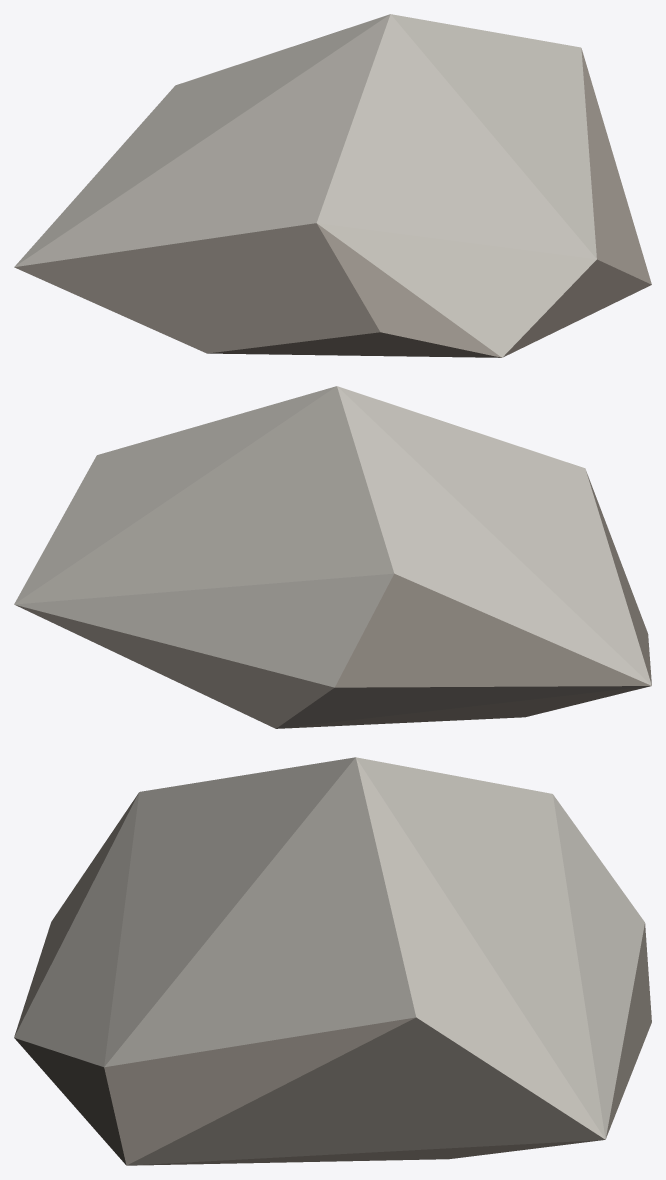
File: Rock_S_C.fbx
The picture shows the model from 3 angles, top to bottom: view 1: azimuth 30°, elevation 25°; view 2: azimuth 150°, elevation 25°; view 3: azimuth 270°, elevation 25°; orthographic projection. The views are drawn at different scales.
Parts seen in each view (by area): view 1: Rock_S_C; view 2: Rock_S_C; view 3: Rock_S_C.
Part boxes in pixels (x1,y1,x2,y2): Rock_S_C: [14, 14, 651, 357]; Rock_S_C: [14, 386, 651, 728]; Rock_S_C: [14, 757, 651, 1165].
Bounding box in the file's own units: 1.6 × 0.66 × 1.25.
